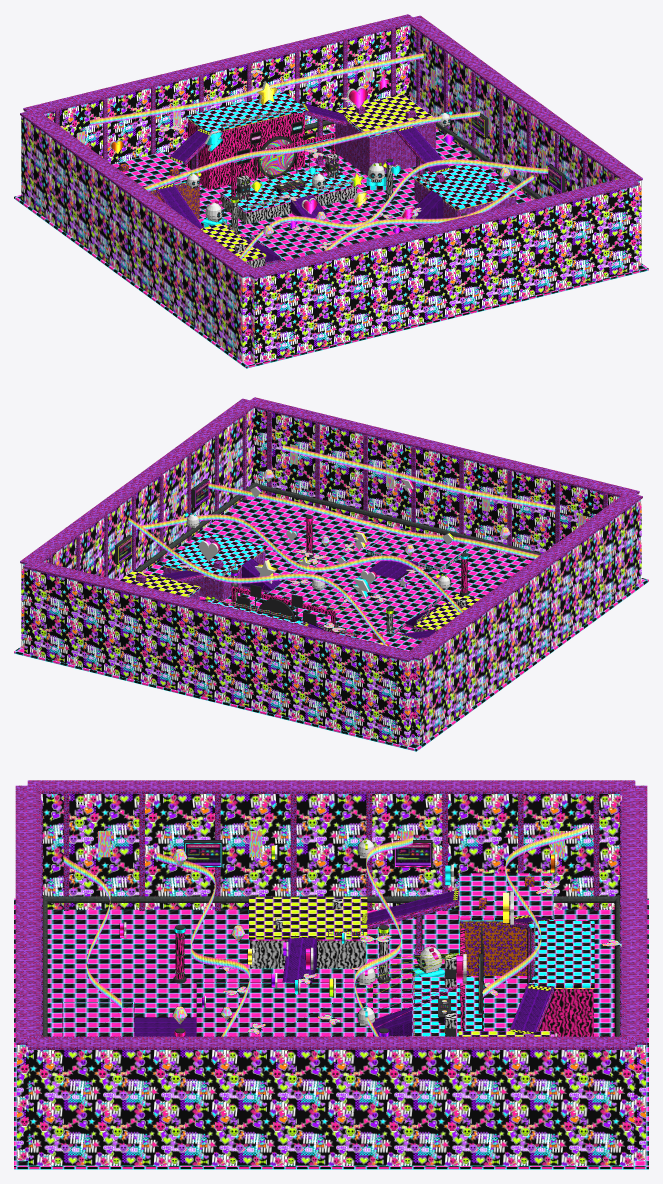
The model's file is level.glb.
The picture shows the model from 3 angles, top to bottom: view 1: azimuth 30°, elevation 25°; view 2: azimuth 150°, elevation 25°; view 3: azimuth 270°, elevation 25°; orthographic projection. The views are drawn at different scales.
Visible parts, largest first — view 1: OuterWall_South_Body, OuterWall_West_Body, OuterWall_North_Body, OuterWall_East_Body, Ground, OuterWall_North_Cap, OuterWall_South_Cap, OuterWall_East_Cap, OuterWall_West_Cap, Dance_Floor_Cap, Halo_Deck_Base, Star_Loft_Base (+21 smaller); view 2: OuterWall_North_Body, OuterWall_South_Body, OuterWall_West_Body, Ground, OuterWall_East_Body, Dance_Floor_Cap, OuterWall_North_Cap, OuterWall_South_Cap, OuterWall_East_Cap, OuterWall_West_Cap, OuterWall_South, OuterWall_East (+15 smaller); view 3: OuterWall_East_Body, OuterWall_West_Body, Ground, Dance_Floor_Cap, OuterWall_East_Cap, OuterWall_West_Cap, OuterWall_North_Cap, OuterWall_South_Cap, OuterWall_West, Zebra_Deck_Cap, Halo_Deck_Cap, Heart_Loft_Cap (+21 smaller).
Part boxes in pixels (left/top/right/bottom): OuterWall_South_Body: left=250, top=185, right=638, bottom=363; OuterWall_West_Body: left=21, top=116, right=250, bottom=362; OuterWall_North_Body: left=24, top=25, right=409, bottom=164; OuterWall_East_Body: left=409, top=25, right=641, bottom=265; Ground: left=14, top=128, right=648, bottom=368; OuterWall_North_Cap: left=23, top=14, right=416, bottom=114; OuterWall_South_Cap: left=245, top=178, right=639, bottom=279; OuterWall_East_Cap: left=405, top=15, right=642, bottom=181; OuterWall_West_Cap: left=20, top=111, right=257, bottom=277; Dance_Floor_Cap: left=249, top=201, right=419, bottom=260; Halo_Deck_Base: left=187, top=112, right=304, bottom=189; Star_Loft_Base: left=335, top=122, right=435, bottom=175; OuterWall_North_Body: left=24, top=568, right=412, bottom=746; OuterWall_South_Body: left=253, top=408, right=638, bottom=560; OuterWall_West_Body: left=412, top=499, right=641, bottom=745; Ground: left=14, top=496, right=648, bottom=751; OuterWall_East_Body: left=21, top=408, right=253, bottom=648; Dance_Floor_Cap: left=250, top=560, right=447, bottom=634; OuterWall_North_Cap: left=23, top=559, right=417, bottom=662; OuterWall_South_Cap: left=247, top=397, right=639, bottom=497; OuterWall_East_Cap: left=20, top=398, right=258, bottom=564; OuterWall_West_Cap: left=405, top=494, right=642, bottom=660; OuterWall_South: left=267, top=411, right=607, bottom=556; OuterWall_East: left=48, top=414, right=246, bottom=577; OuterWall_East_Body: left=28, top=1050, right=634, bottom=1165; OuterWall_West_Body: left=41, top=794, right=621, bottom=909; Ground: left=14, top=898, right=648, bottom=1169; Dance_Floor_Cap: left=196, top=982, right=372, bottom=1036; OuterWall_East_Cap: left=27, top=1036, right=635, bottom=1049; OuterWall_West_Cap: left=27, top=780, right=635, bottom=793; OuterWall_North_Cap: left=621, top=785, right=647, bottom=1044; OuterWall_South_Cap: left=15, top=785, right=41, bottom=1044; OuterWall_West: left=63, top=794, right=599, bottom=910; Zebra_Deck_Cap: left=249, top=897, right=367, bottom=939; Halo_Deck_Cap: left=534, top=921, right=594, bottom=988; Heart_Loft_Cap: left=458, top=873, right=553, bottom=920.
Size of the model in its own units: 109 by 27.31 by 109.
35 materials, 25 textured.
